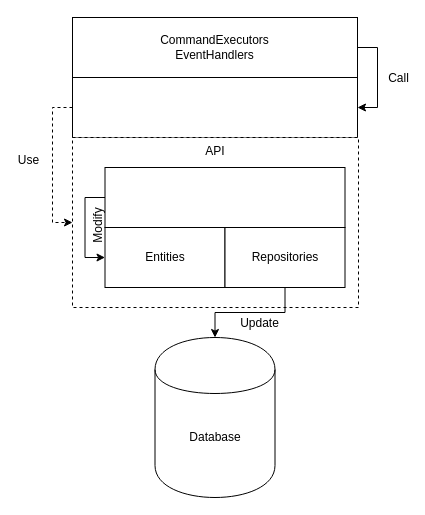
Image size: 425x515. Some labels were removed from this diagram. Each missing label, with the centre of its shape:
"Facades" goes at pixel 215 107.
"Services" goes at pixel 224 197.
